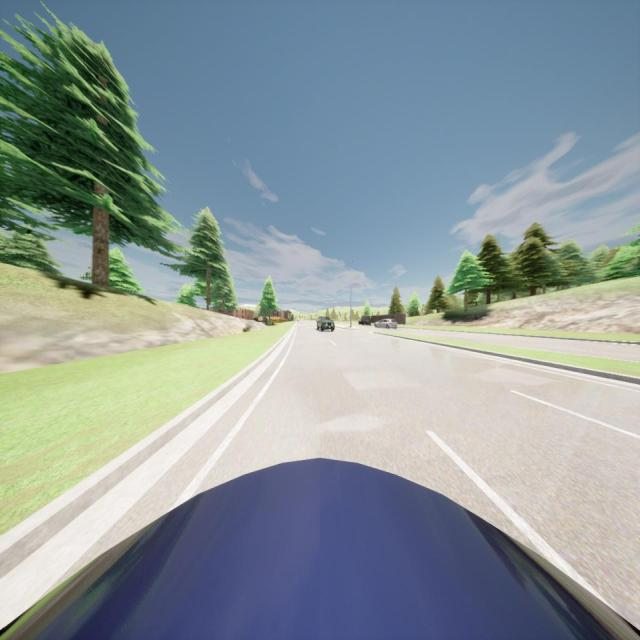Vehicle: (0, 457, 640, 640), (316, 316, 336, 332), (373, 318, 398, 329), (358, 320, 371, 326)
